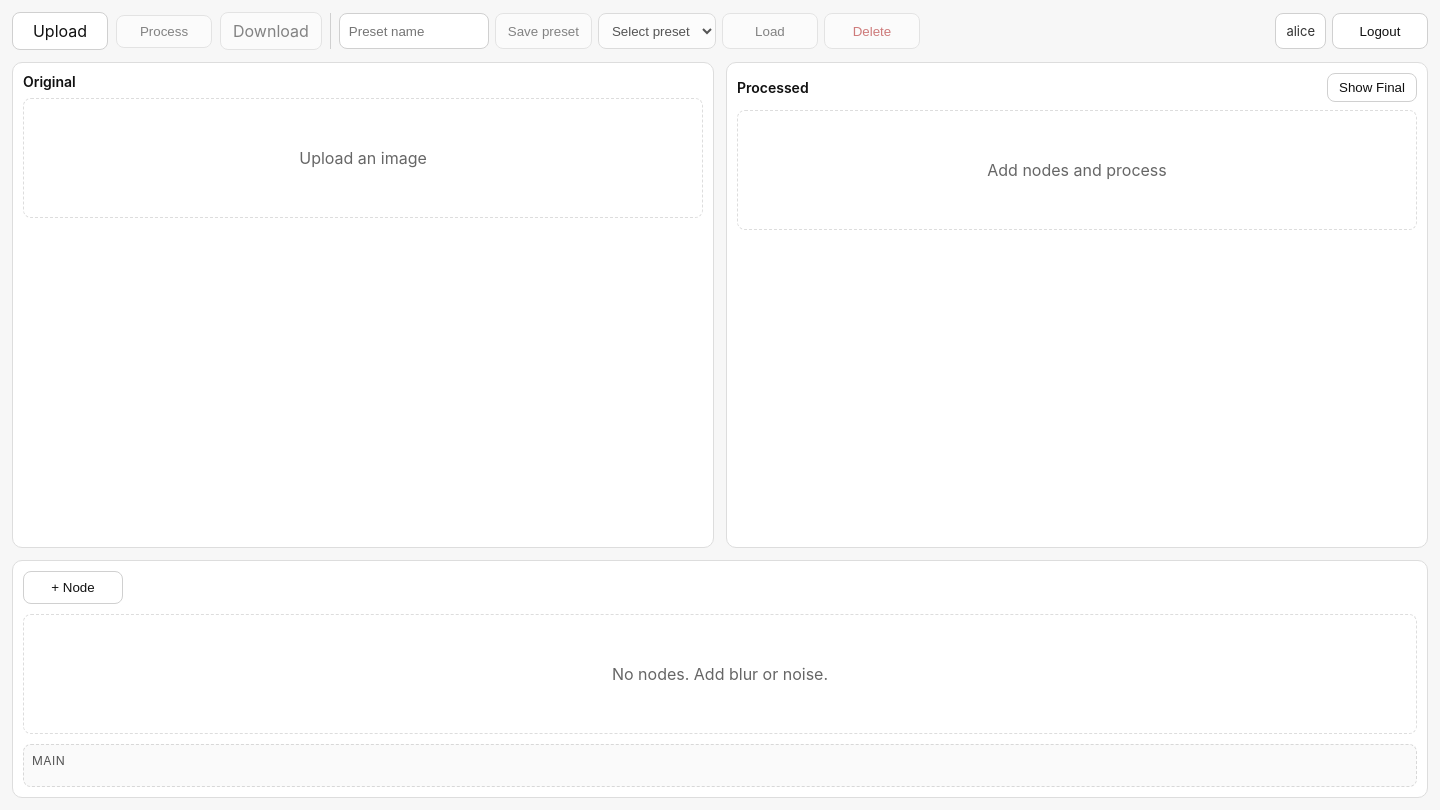
it: App authentication and presets › saves the current pipeline under a user-provided preset name
The width and height of the screenshot is (1440, 810).
Check: the text "alice" is shown, box [1275, 13, 1326, 49]
Type "empty-start" into the field labelled "Preset name" at (414, 31), box [339, 13, 489, 49]
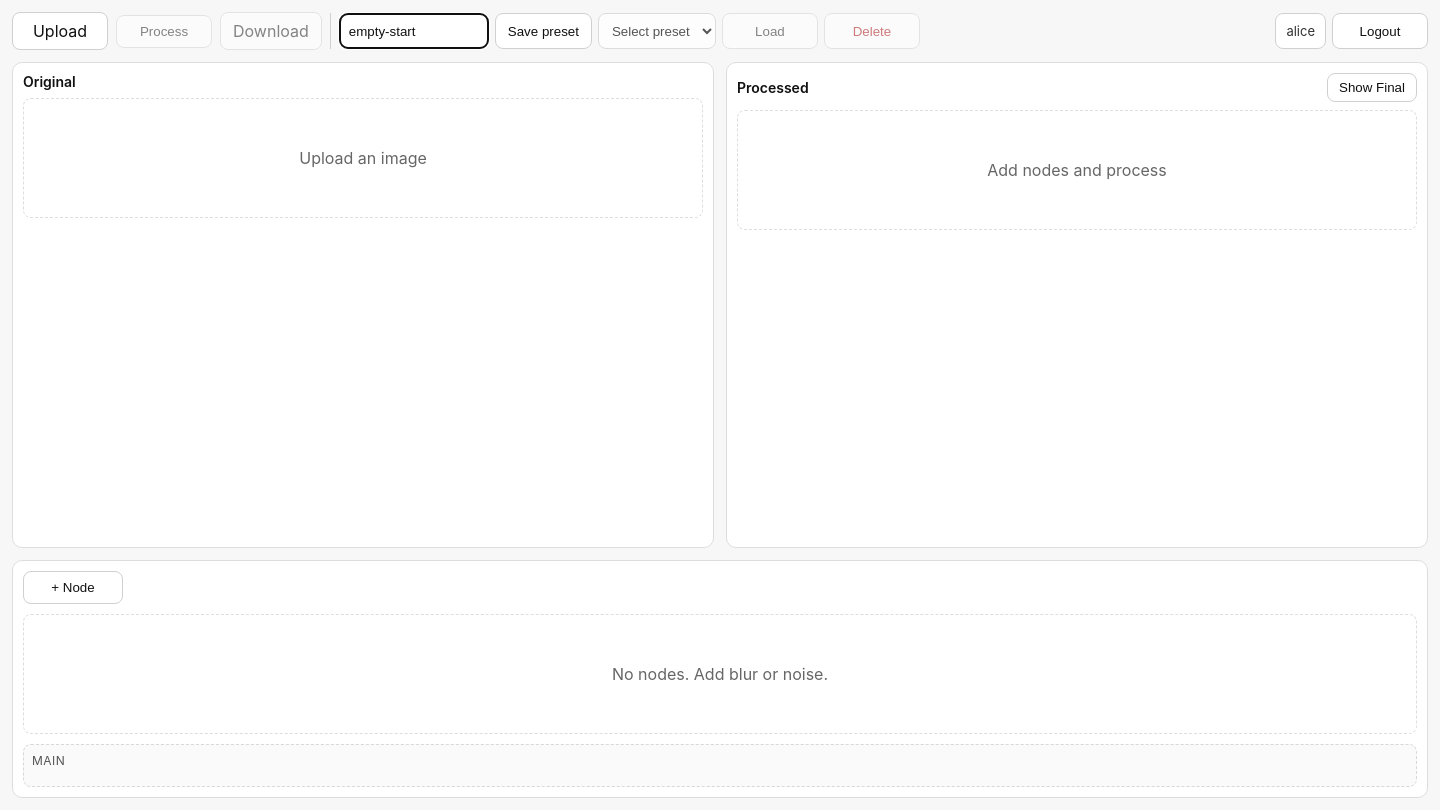
Click the button "Save preset" at (543, 31), box [495, 13, 592, 49]
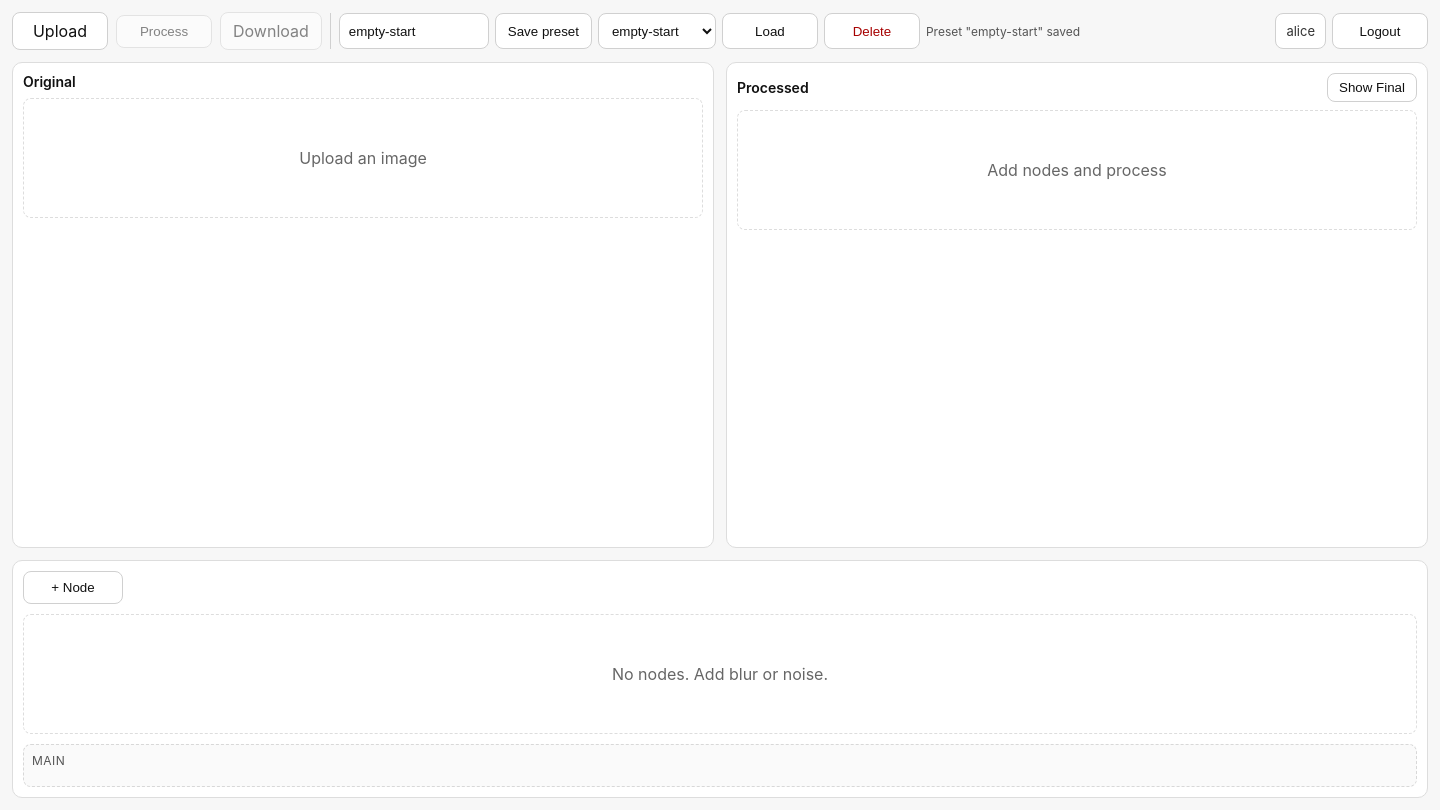
Check: the text "Preset \"empty-start\" saved" is shown, box [926, 24, 1080, 38]
